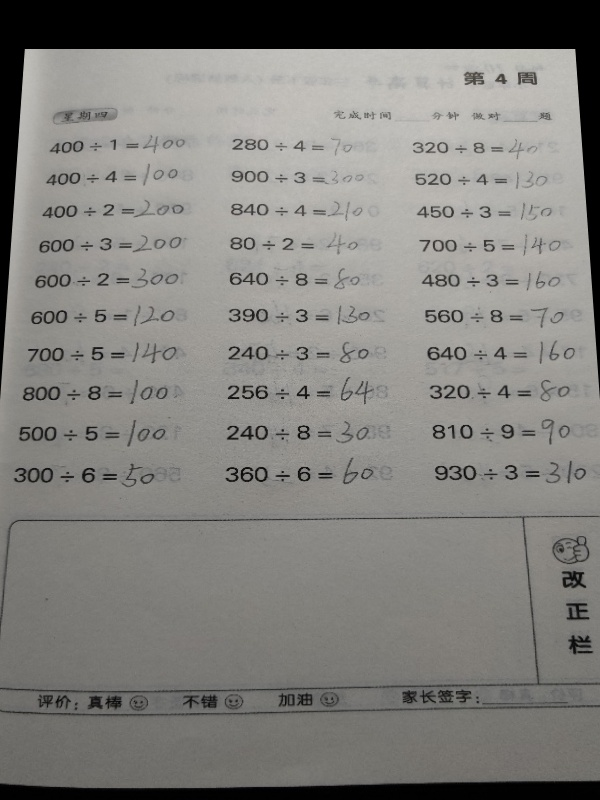equation: (14, 417, 175, 453), (221, 457, 377, 491), (224, 375, 378, 408), (428, 415, 575, 449), (430, 459, 590, 489), (19, 377, 172, 408), (10, 460, 158, 492), (223, 337, 375, 368), (422, 339, 579, 368), (224, 417, 374, 447), (24, 337, 179, 366), (426, 376, 575, 405), (40, 193, 188, 222), (27, 302, 179, 330), (225, 262, 369, 290), (421, 304, 567, 331), (31, 264, 182, 290), (225, 302, 373, 327), (222, 132, 359, 159), (35, 232, 184, 256), (225, 231, 367, 256), (46, 132, 191, 156), (43, 161, 180, 186), (415, 235, 565, 257), (228, 164, 371, 187), (409, 136, 551, 159), (414, 201, 561, 223), (417, 270, 562, 292), (227, 197, 369, 219), (412, 169, 552, 189)
